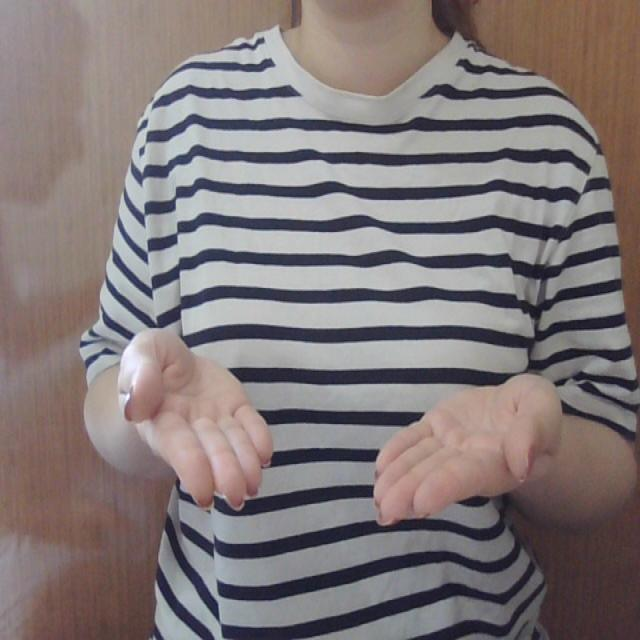Evet: (115, 323, 569, 530)
